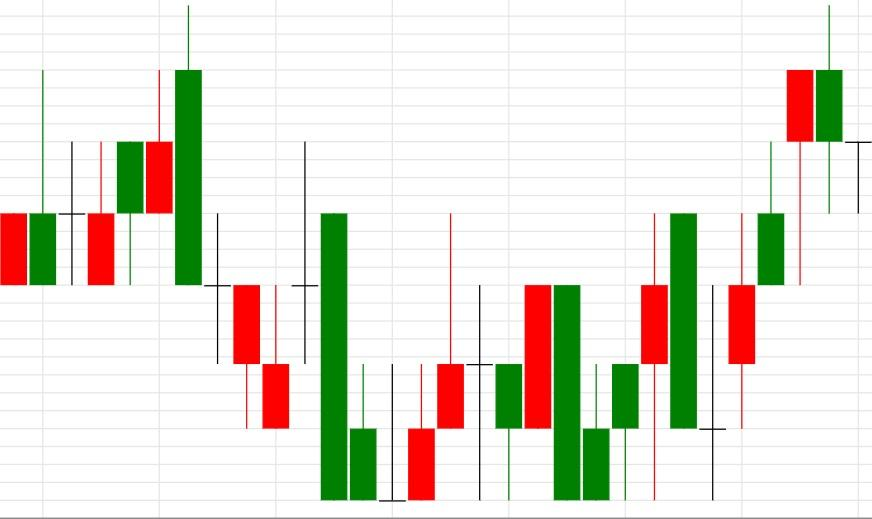bearish_engulfing_fall: (0, 4, 203, 286)
morning_star_rise: (290, 141, 436, 503)
